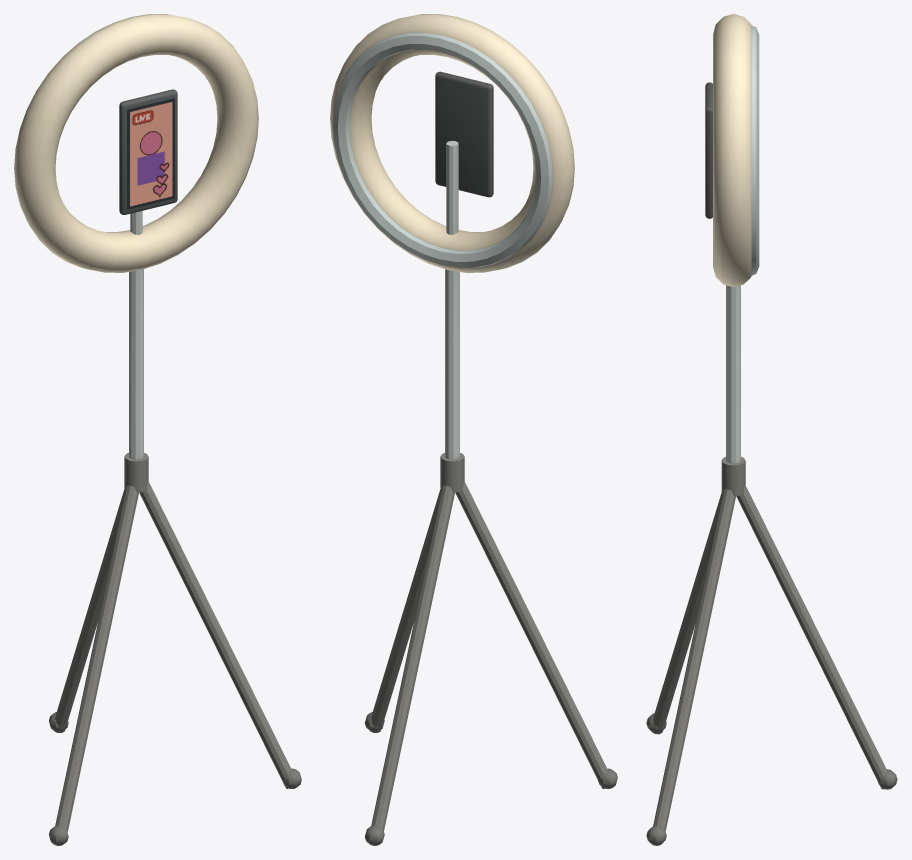
Rendered from RingLight.fbx.
3 views of the same model, side by side, from view 1: azimuth 30°, elevation 25°; view 2: azimuth 150°, elevation 25°; view 3: azimuth 270°, elevation 25° (orthographic).
Visible parts, largest first — view 1: RingLight; view 2: RingLight; view 3: RingLight.
Boxes of the visible parts, x1,y1,x2,y2 form: RingLight: [14, 14, 301, 845]; RingLight: [330, 14, 617, 845]; RingLight: [646, 14, 897, 845].
Size of the model in its own units: 83.94 by 246 by 73.5.
